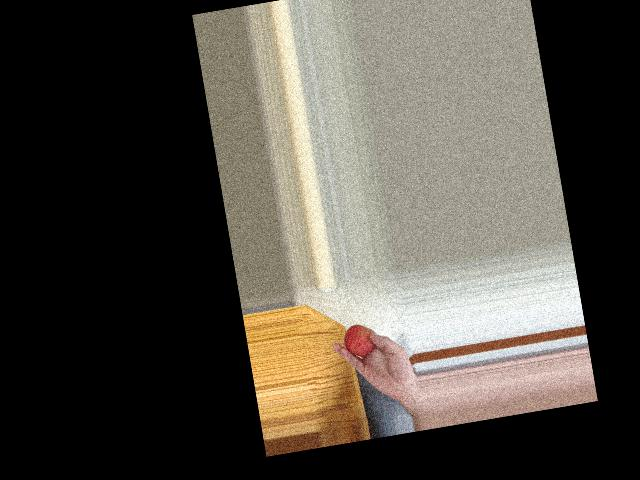apple: (342, 321, 382, 362)
